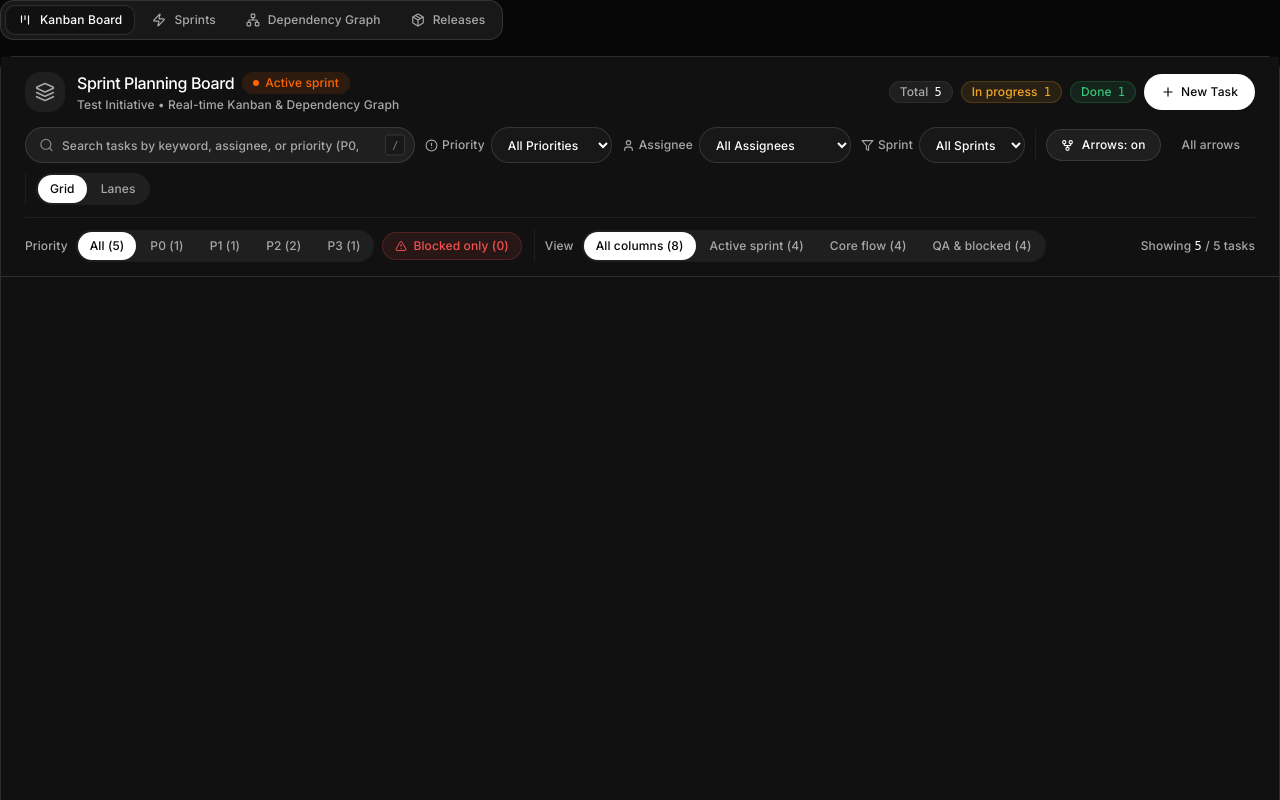
Test: KanbanTab Search and Filter › clears search input with clear button and resets all filters with reset button
This screenshot has width=1280, height=800.
Replace the text in the field with placeholder "Search tasks by keyword" with "OAuth" at (220,145), box [25, 127, 415, 163]
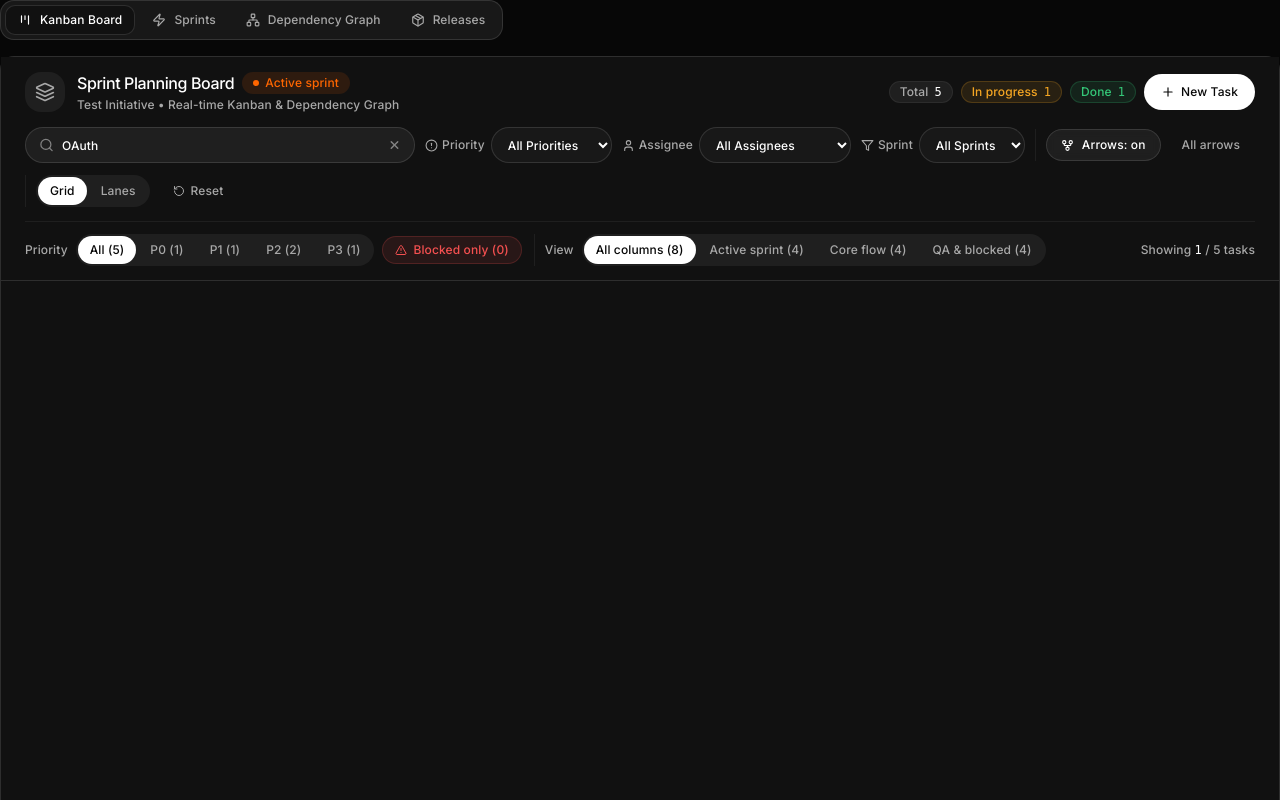
Expected: the text "Design Responsive Navigation Header" is not shown
// Clear search with X button
Click the button named "clear search input" at (395,145), box [384, 135, 405, 156]
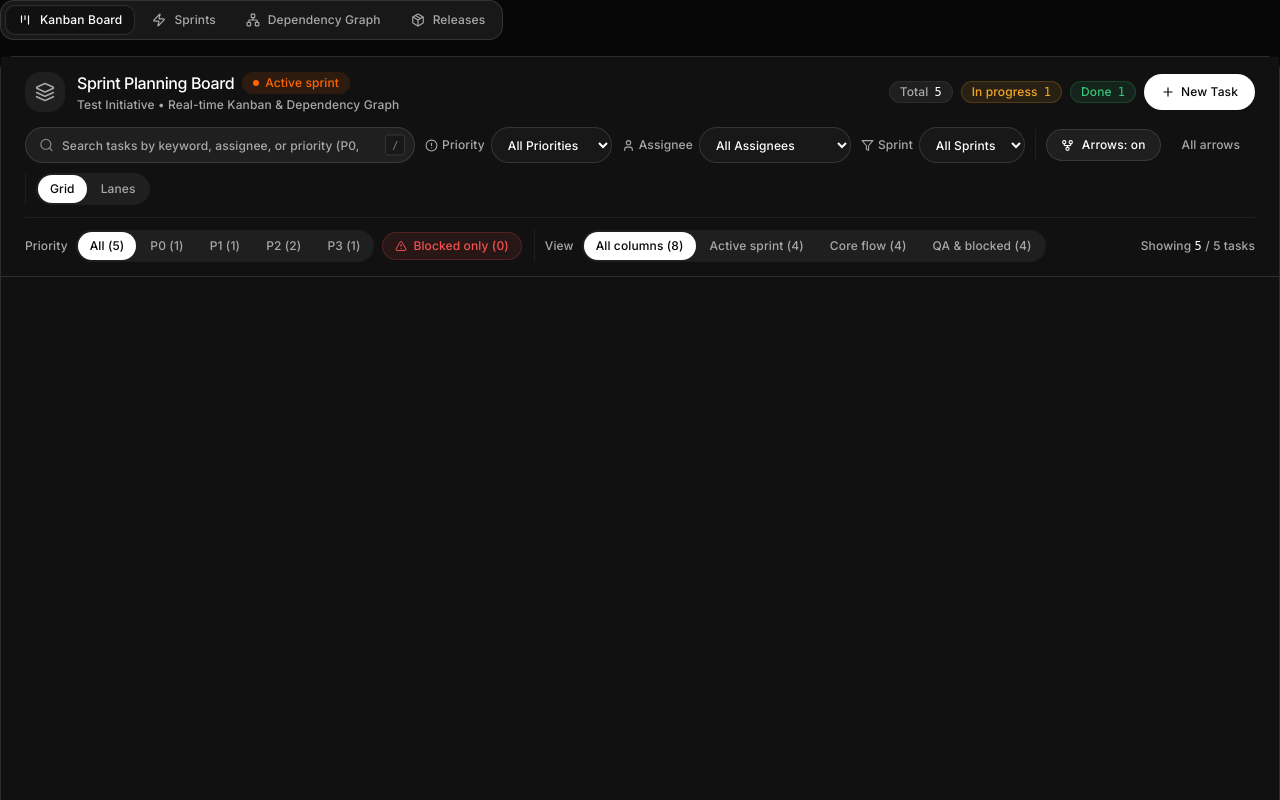
// Filter by priority and then use RESET button
Select "P3 - Low" in the dropdown named "filter by priority level" at (551,145), box [491, 127, 612, 163]
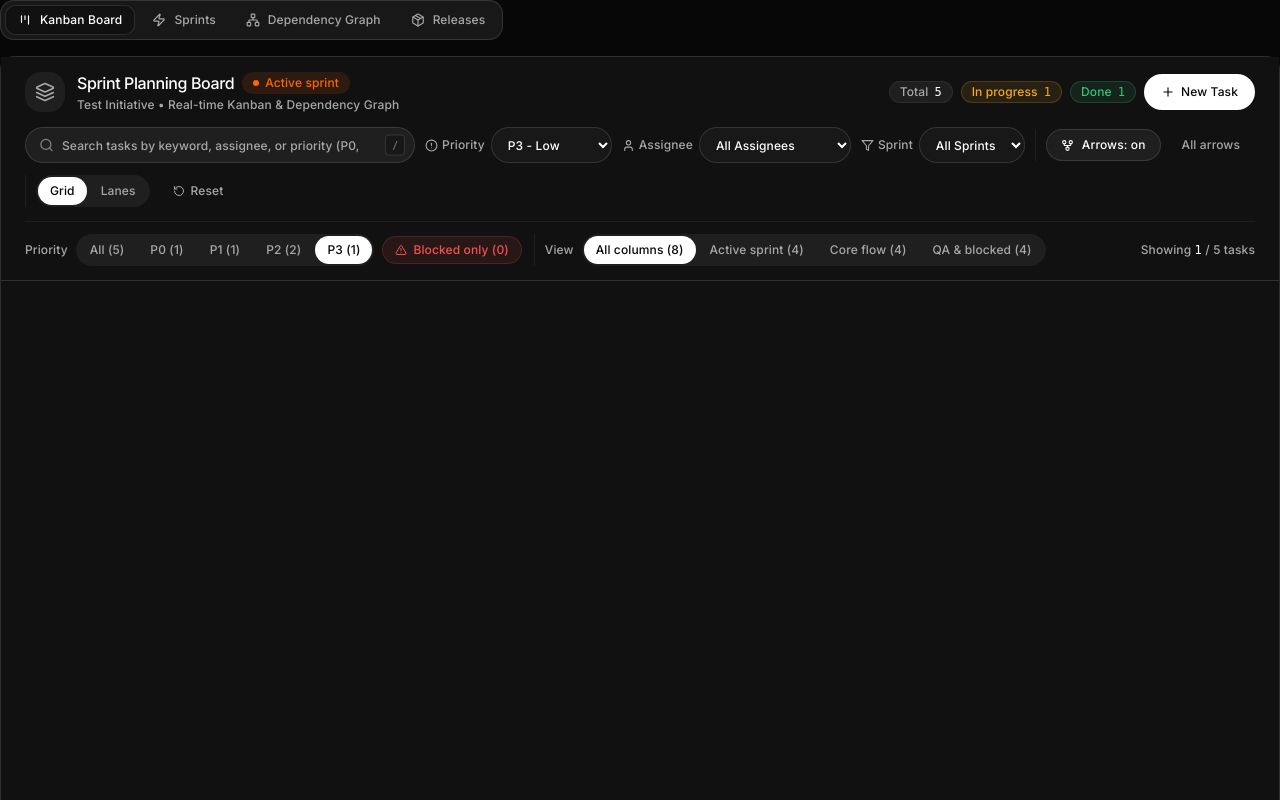
Expected: the text "Implement OAuth token refresh" is not shown
Click the button "Reset" at (198,191), box [160, 173, 236, 209]
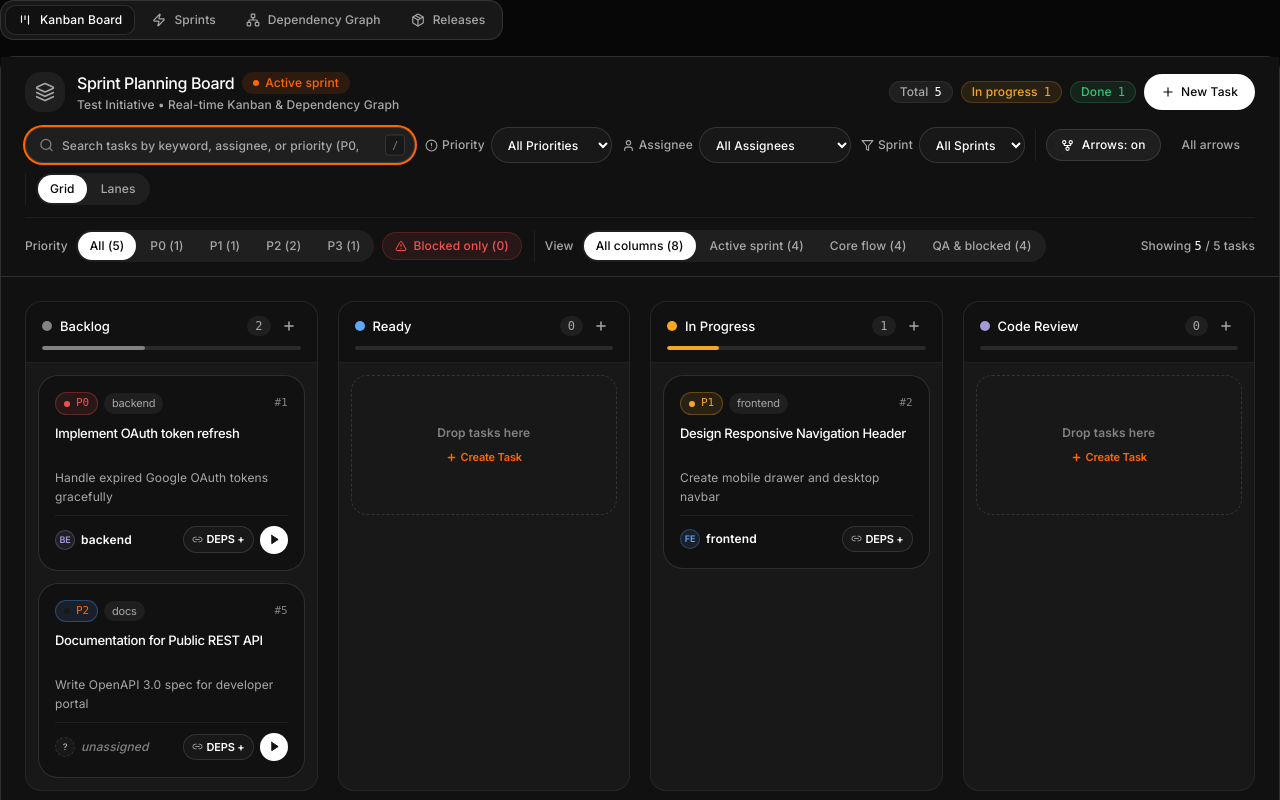
Now the text "Implement OAuth token refresh" is shown, box [55, 425, 239, 441]
Now the text "Design Responsive Navigation Header" is shown, box [680, 425, 906, 441]
